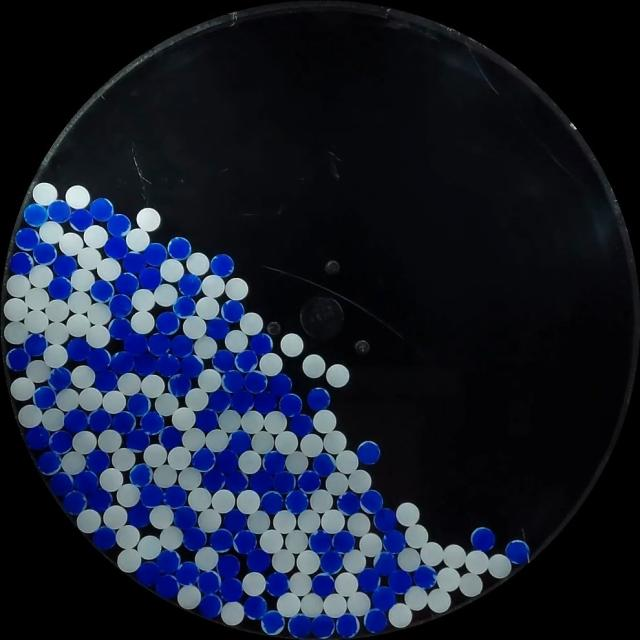pmmma-azul: (504, 539, 530, 565), (198, 593, 223, 620), (86, 346, 112, 371), (24, 426, 50, 451), (155, 573, 180, 599), (123, 330, 148, 356), (130, 350, 155, 376), (127, 504, 154, 528), (191, 447, 216, 472), (66, 336, 91, 361), (86, 449, 111, 474), (356, 440, 381, 465), (363, 608, 387, 634), (74, 470, 100, 494), (470, 526, 494, 552), (252, 391, 278, 415), (248, 470, 274, 494), (9, 252, 34, 276), (129, 462, 153, 487), (49, 472, 74, 496), (280, 392, 304, 417), (62, 490, 87, 514), (215, 449, 239, 474), (140, 483, 165, 507), (89, 198, 114, 222), (37, 450, 62, 474), (172, 506, 197, 530), (48, 276, 73, 300), (228, 429, 252, 454), (15, 228, 40, 252), (104, 236, 129, 260), (33, 385, 57, 410), (182, 525, 206, 550), (413, 564, 438, 588), (48, 366, 72, 391), (194, 408, 219, 432), (268, 372, 292, 397), (261, 610, 285, 635), (359, 489, 383, 514), (246, 548, 271, 572), (217, 554, 241, 579), (69, 208, 94, 232), (52, 254, 77, 278), (159, 425, 183, 450), (387, 569, 412, 593), (23, 203, 48, 227), (88, 408, 112, 433), (373, 506, 396, 532), (220, 576, 243, 602), (163, 485, 187, 509), (210, 253, 234, 277), (260, 490, 284, 514), (290, 413, 314, 437), (156, 353, 180, 377), (112, 410, 136, 434), (180, 354, 204, 378), (176, 561, 200, 585), (143, 242, 167, 266), (64, 409, 88, 433), (49, 430, 73, 454), (210, 528, 234, 552), (221, 299, 245, 323), (92, 526, 116, 550), (138, 266, 162, 290), (6, 348, 30, 372), (262, 451, 286, 475), (197, 570, 221, 594), (307, 387, 331, 411), (88, 488, 112, 512), (310, 614, 334, 638), (265, 572, 289, 596), (114, 272, 138, 296), (243, 595, 267, 619), (106, 214, 130, 238), (136, 561, 160, 585), (178, 273, 202, 297), (372, 586, 396, 610), (288, 614, 312, 638), (47, 200, 72, 223), (122, 251, 147, 274), (243, 371, 268, 394), (24, 332, 47, 357), (285, 489, 308, 514), (126, 429, 150, 452), (127, 393, 151, 416), (312, 572, 335, 596), (33, 242, 57, 265), (90, 280, 114, 303), (109, 317, 132, 341), (168, 237, 192, 260), (224, 508, 247, 532), (312, 453, 336, 476), (140, 411, 164, 434), (170, 335, 194, 358), (157, 549, 180, 573), (337, 491, 360, 515), (109, 293, 132, 317), (230, 389, 253, 413), (382, 529, 405, 553), (233, 530, 256, 554), (356, 568, 379, 592), (224, 470, 248, 493), (309, 530, 332, 554), (374, 552, 397, 576), (203, 469, 226, 493), (320, 550, 343, 574), (207, 391, 231, 414), (146, 332, 171, 354), (235, 349, 258, 372), (168, 373, 191, 396), (332, 530, 355, 553), (173, 295, 196, 318), (273, 471, 296, 494), (109, 351, 132, 374), (156, 312, 180, 334), (297, 470, 321, 492), (250, 332, 272, 356), (94, 370, 118, 392), (336, 612, 358, 636), (205, 317, 229, 339), (211, 350, 235, 372), (222, 370, 246, 392)
